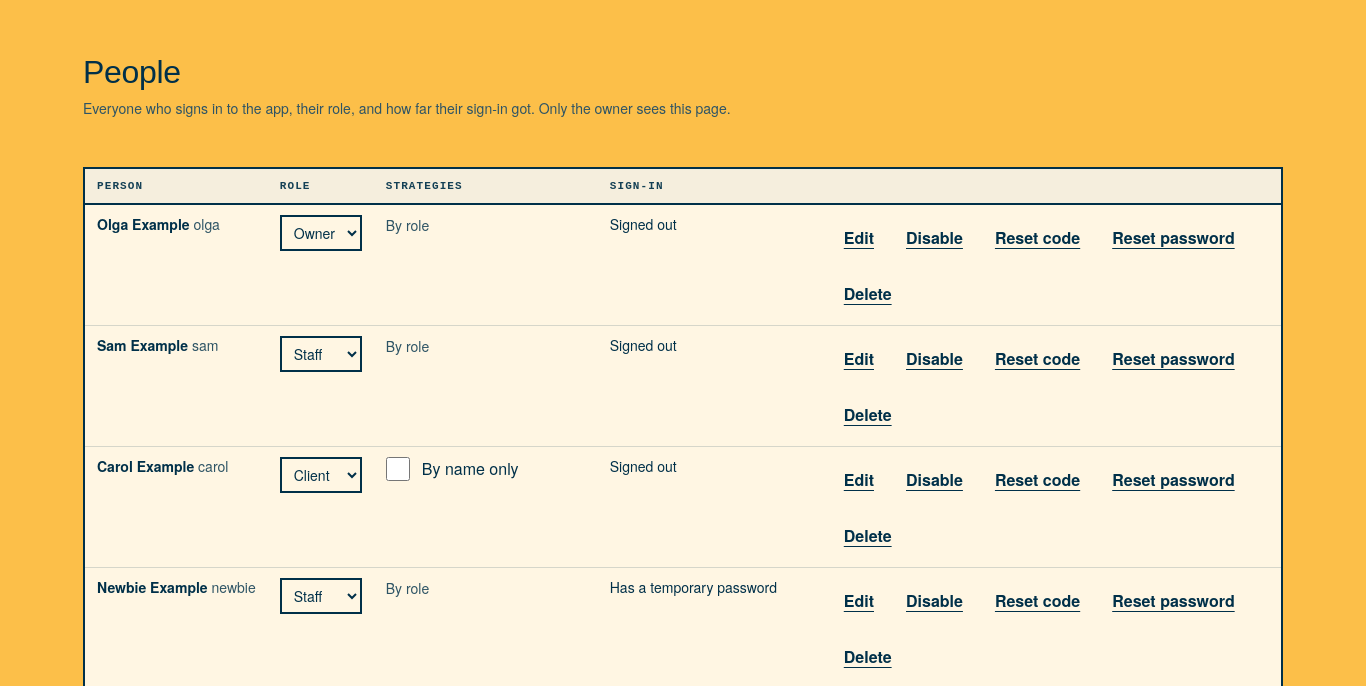
Test: People › deletes a person only after asking in place, and Keep asks nothing
The width and height of the screenshot is (1366, 686).
Click the button with aria-label "Delete carol". click: (868, 535)
box: [834,513,902,557]
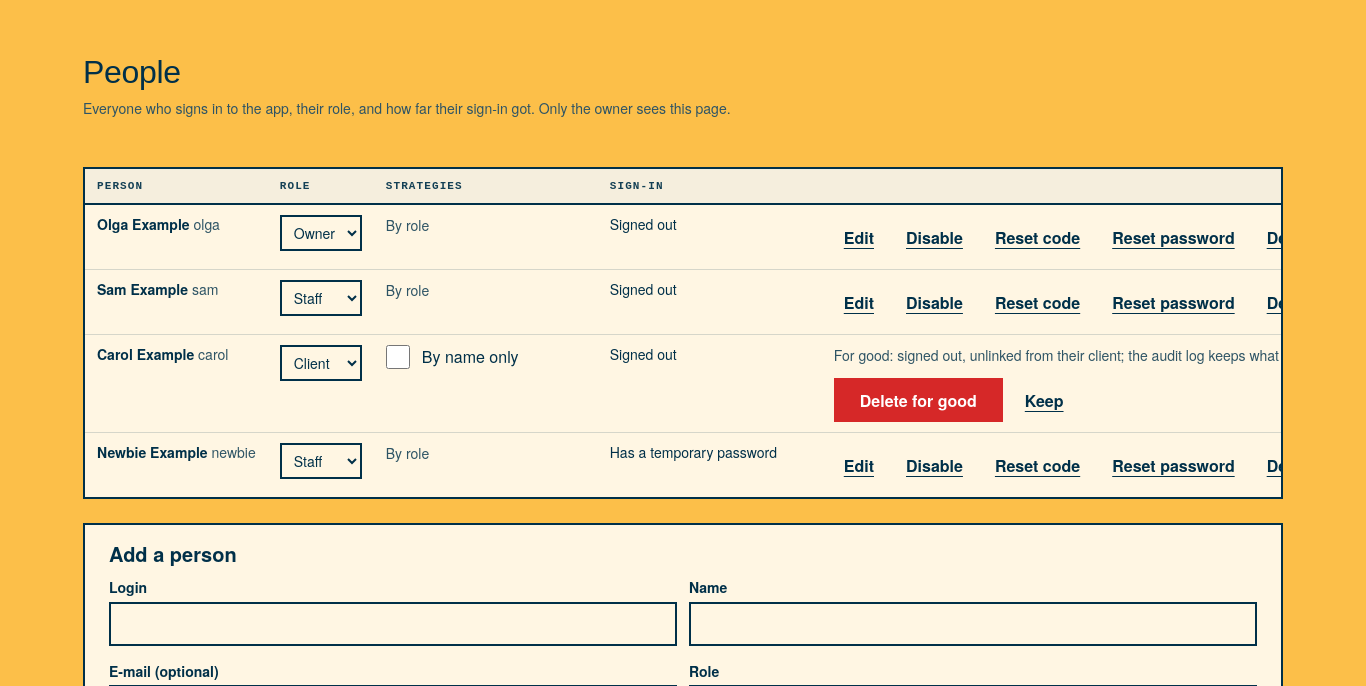
Click the button "Keep". click: (1044, 400)
box: [1015,378,1074,422]
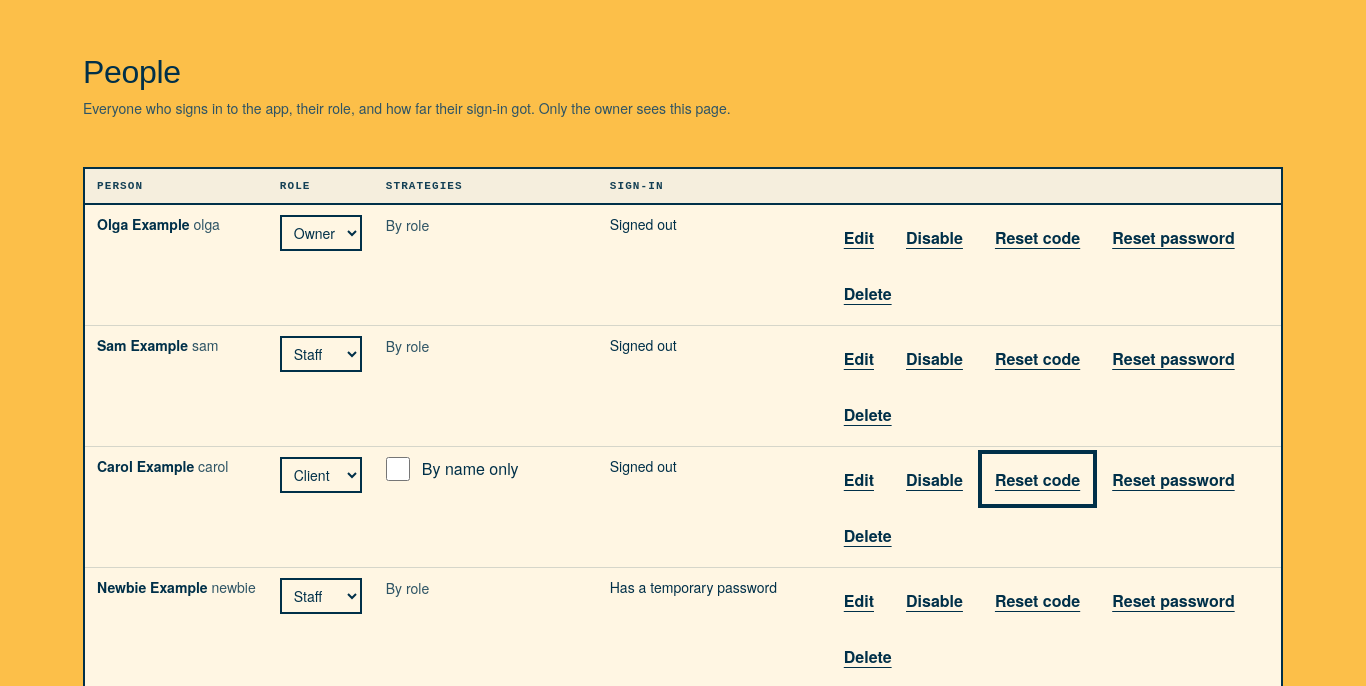
Click the button with aria-label "Delete carol". click: (868, 535)
box: [834,513,902,557]
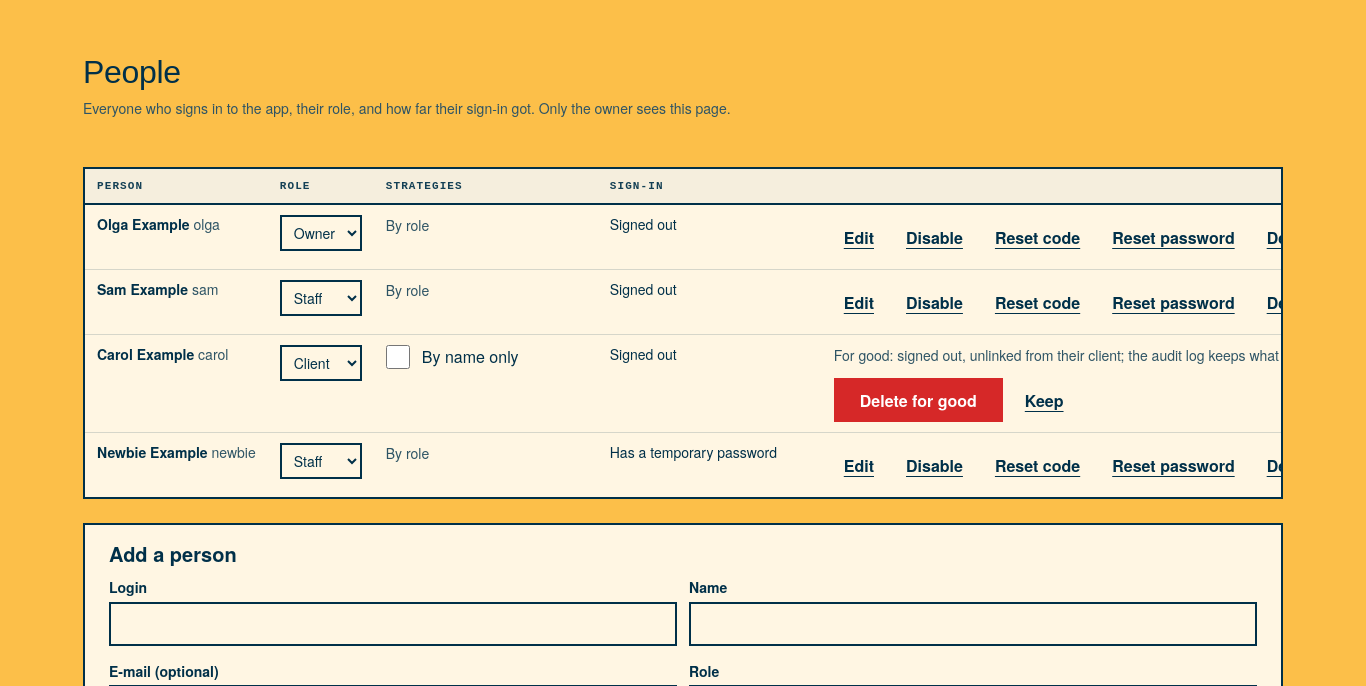
Click the button "Delete for good". click: (918, 400)
box: [834,378,1003,422]
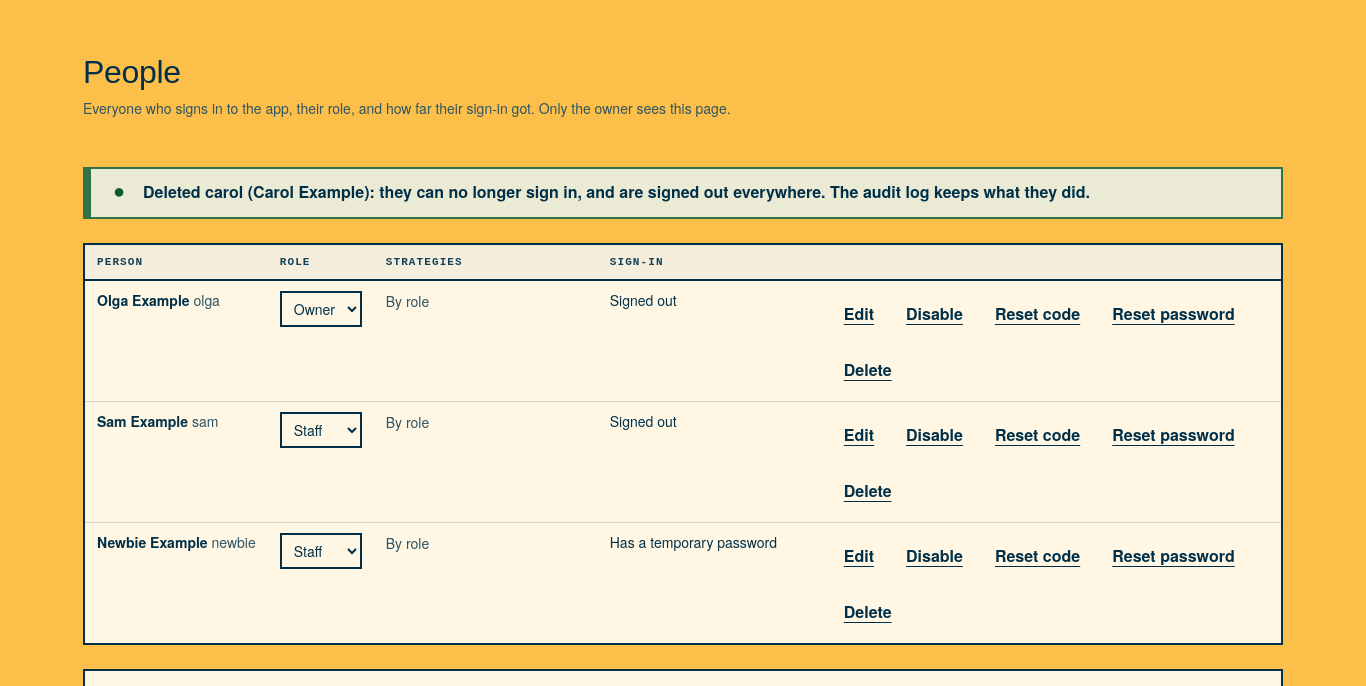
Expected: the text "Deleted carol (Carol Example): they can no longer sign in" is shown, [143,180,1090,203]
